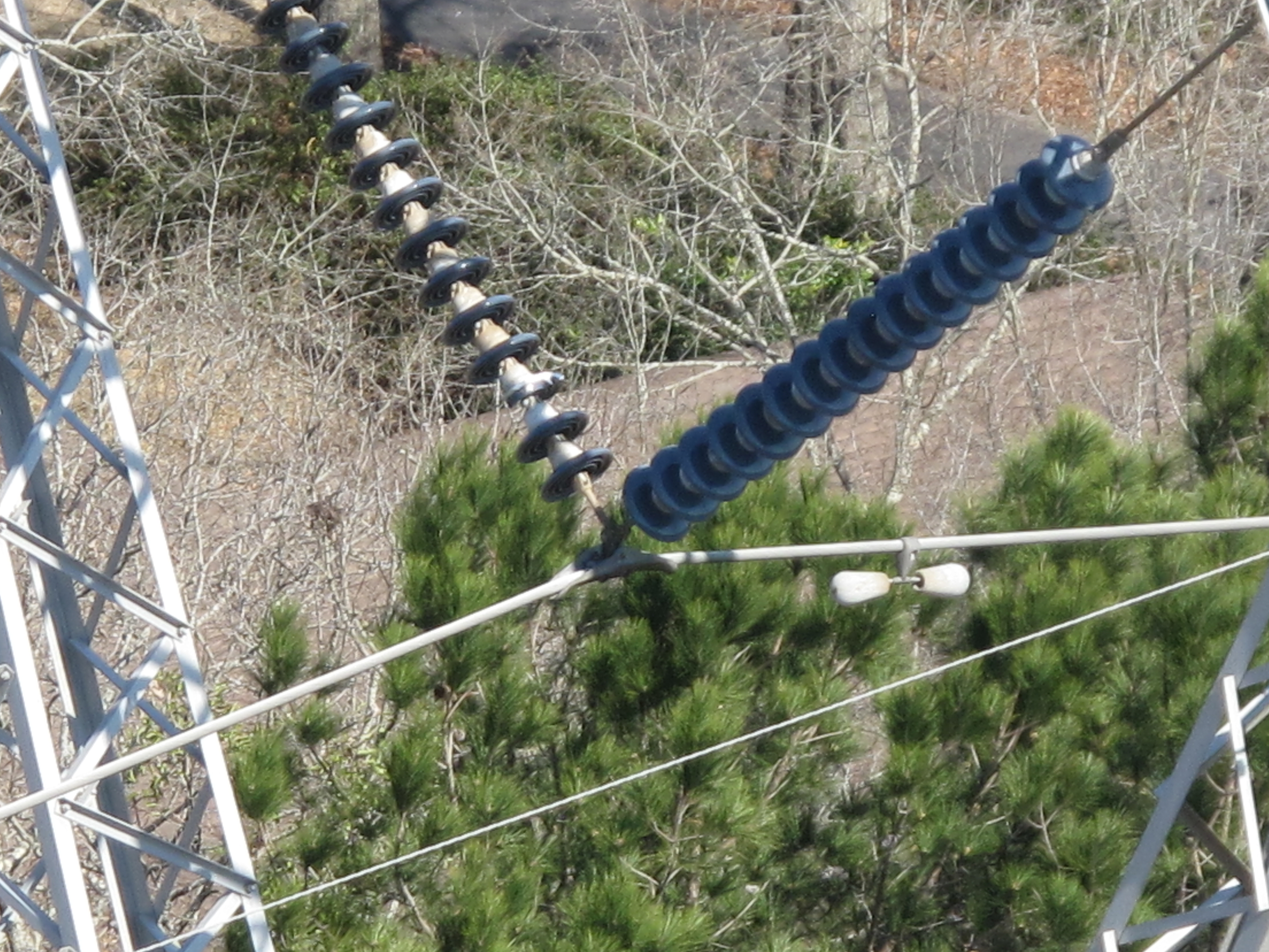damaged: (507, 363, 566, 408)
hammer: (832, 533, 978, 604)
insulator: (625, 133, 1116, 538), (251, 3, 613, 504)
